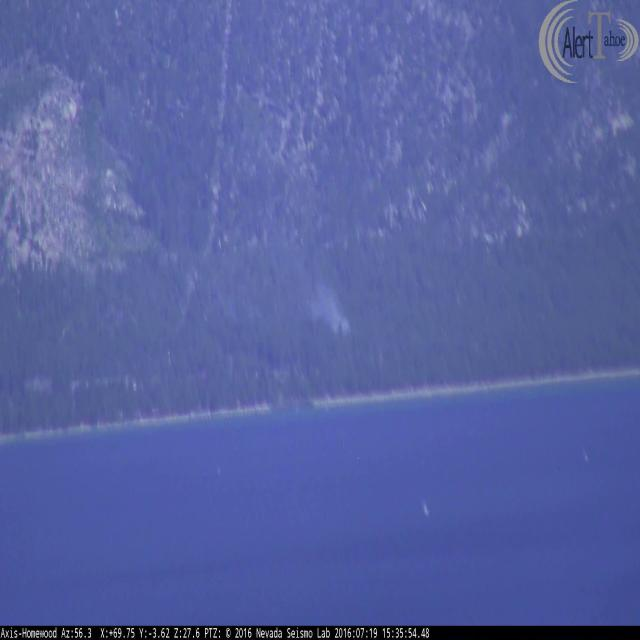smoke: (307, 274, 356, 340)
